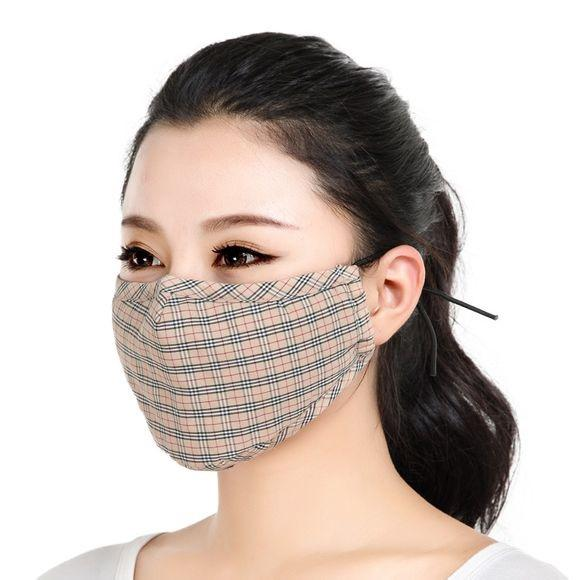OK: (102, 198, 374, 465)
